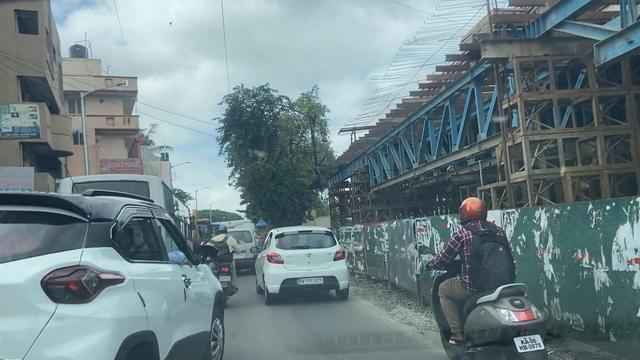LMV: (6, 192, 224, 360), (447, 197, 530, 360), (270, 229, 346, 308)
